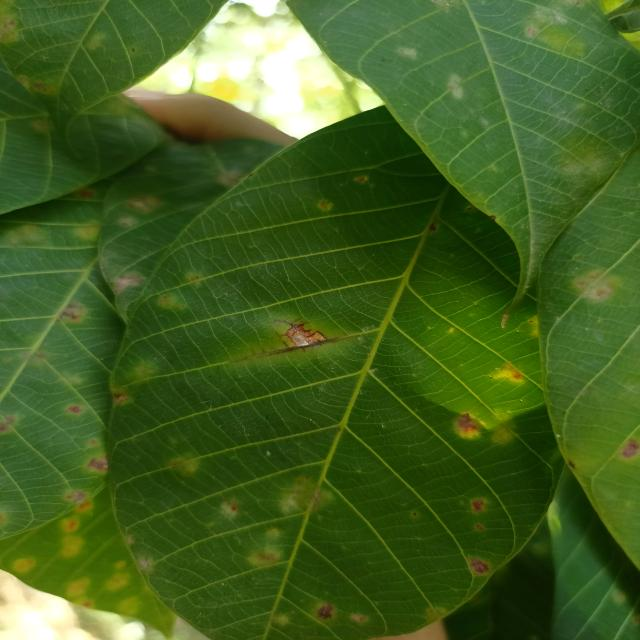Corynespora: (247, 318, 346, 359)
